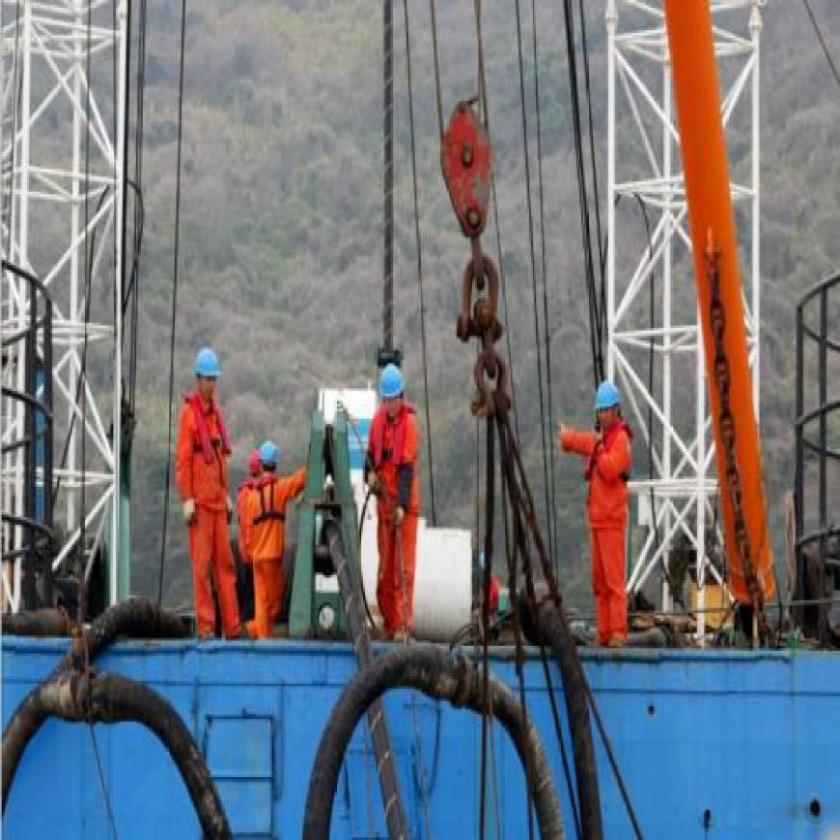Con_casco: (590, 367, 626, 441), (373, 364, 409, 422), (192, 346, 225, 395)
